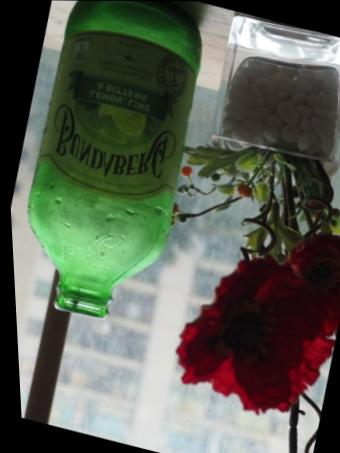plastic: (14, 1, 233, 316)
